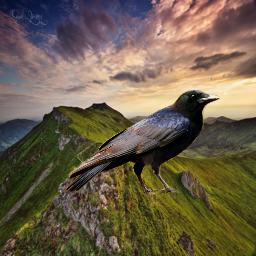Crow: (63, 88, 220, 194)
